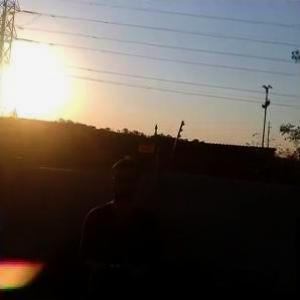follow: (69, 152, 161, 299)
